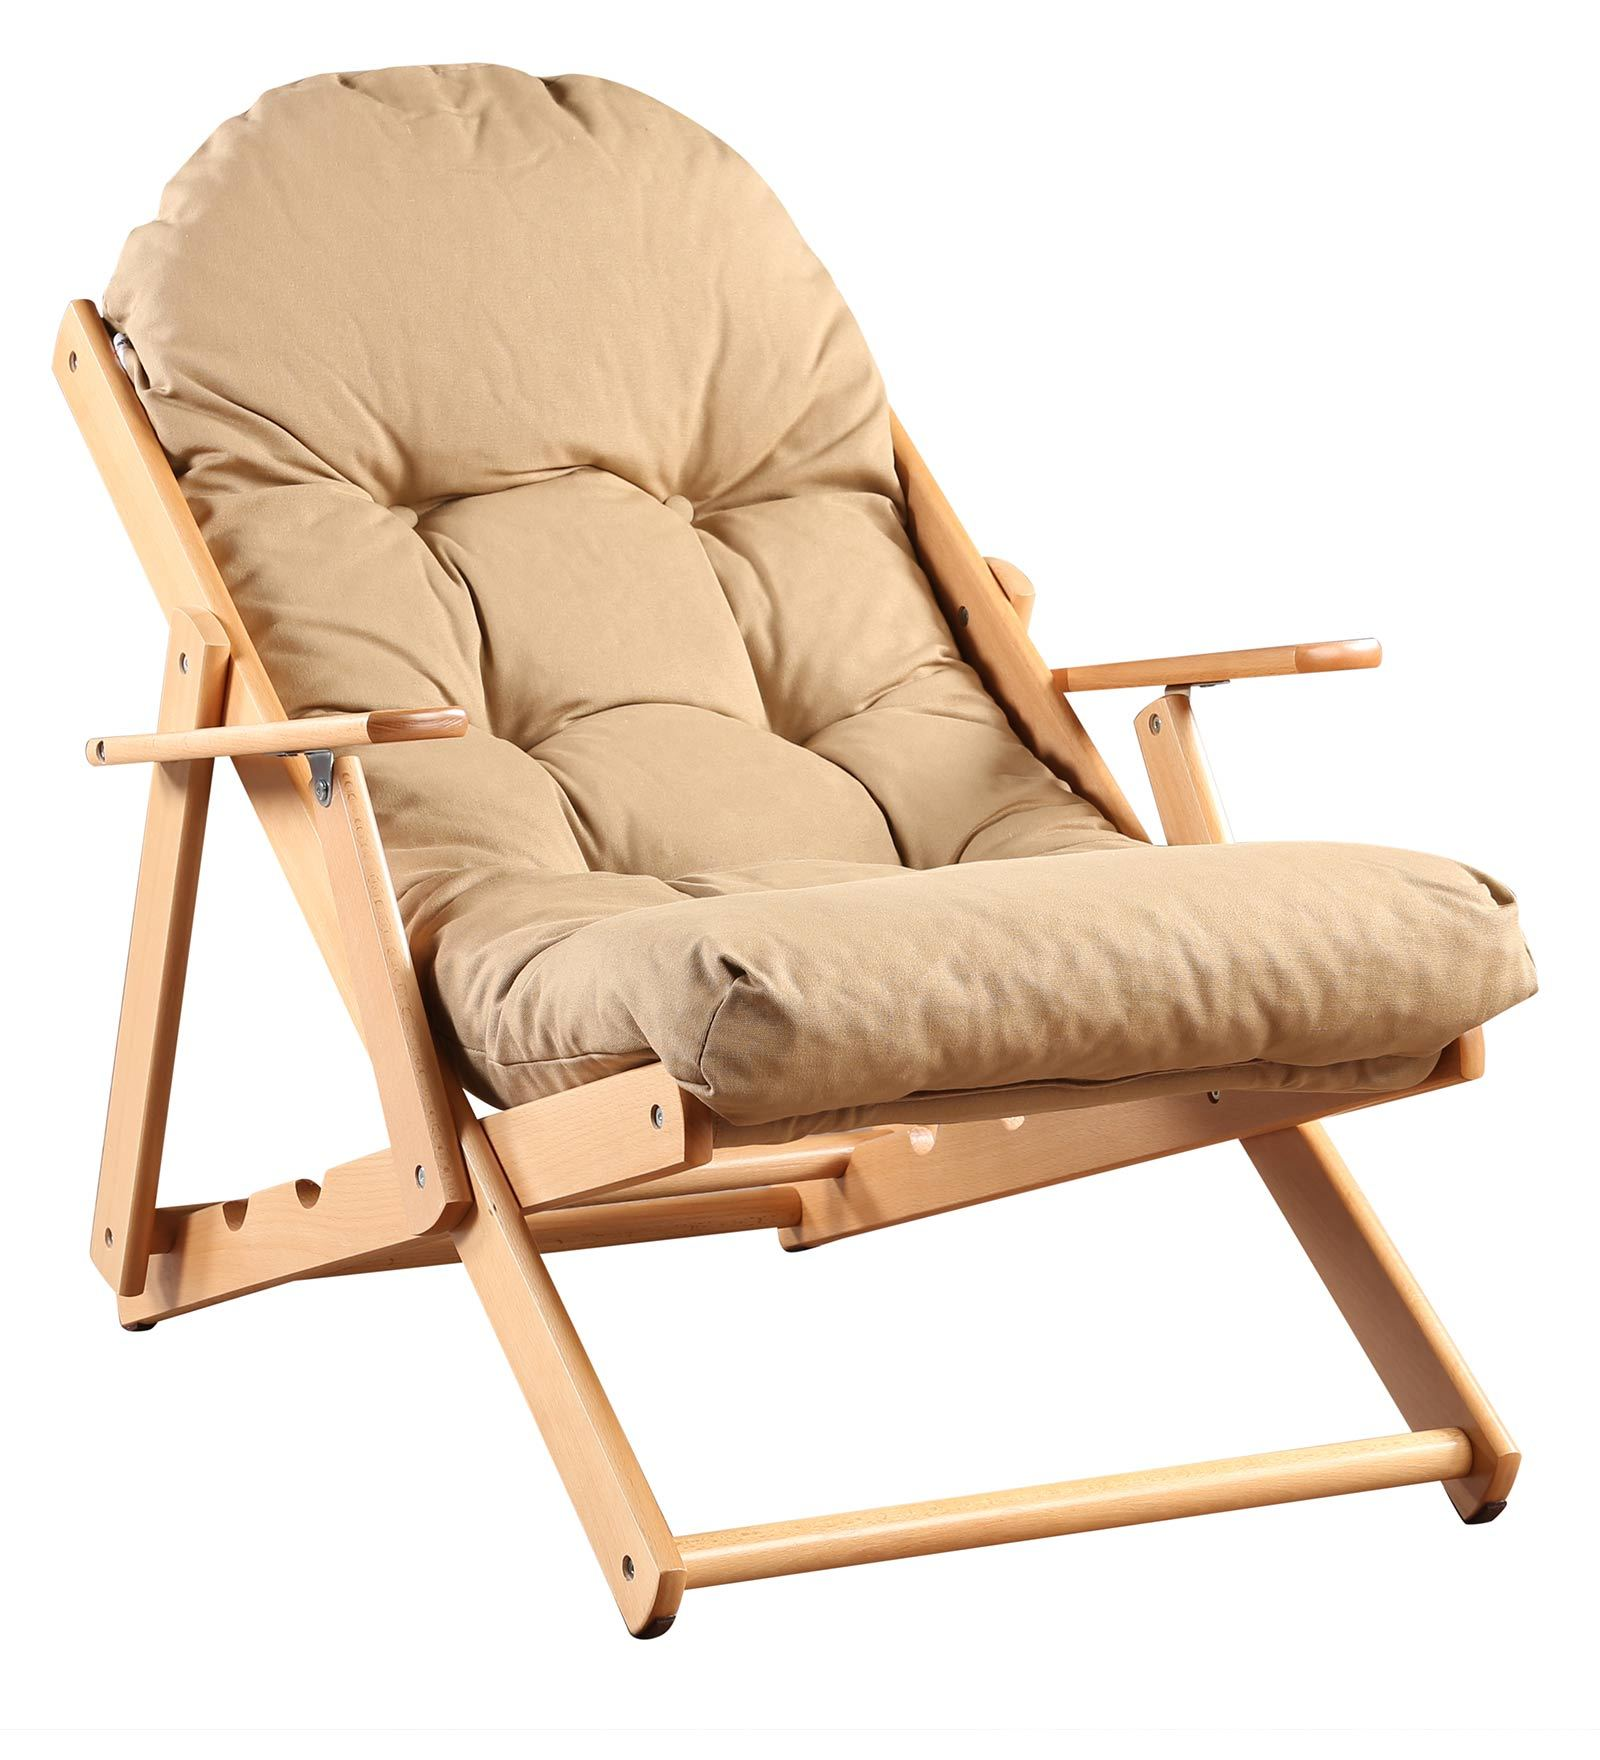Tulip Folding Chair in Beige Finish by HomeTown: (34, 63, 1577, 1614)
